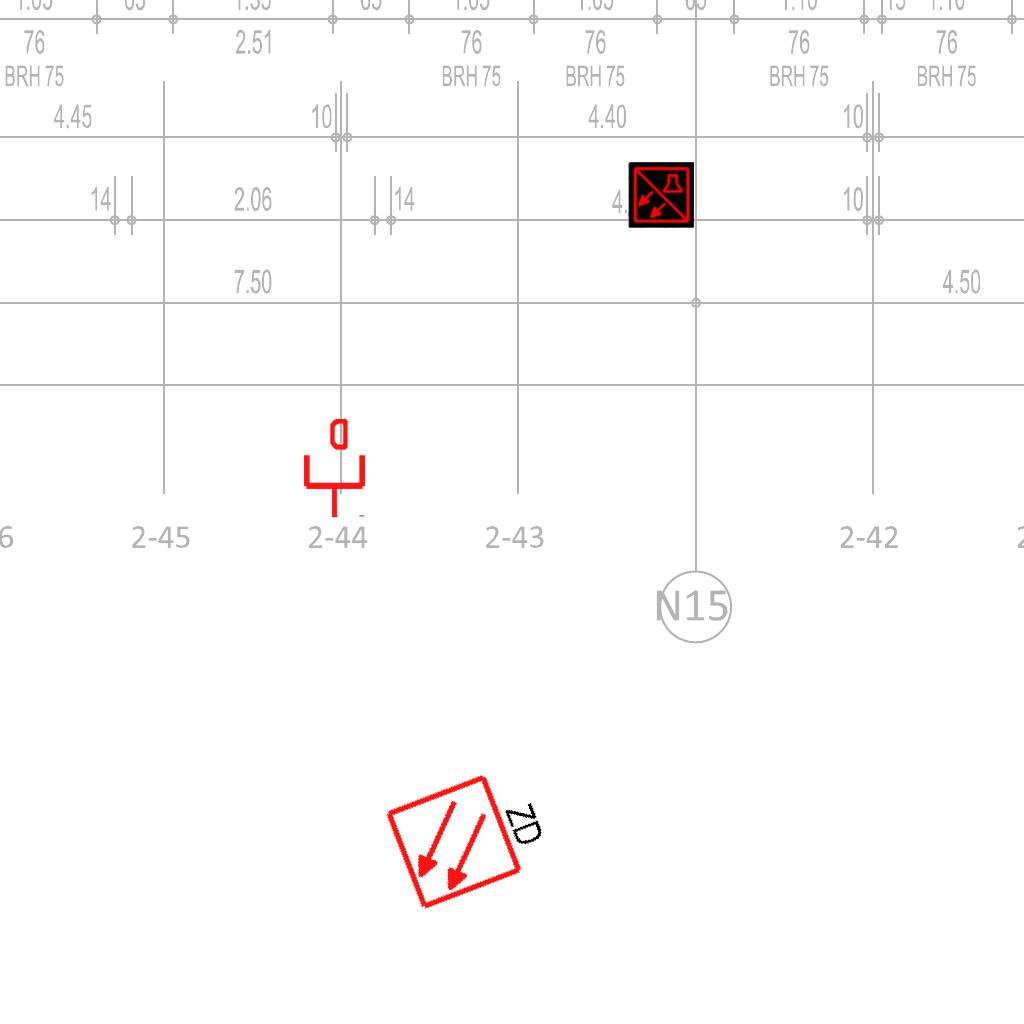Datenanschluss_einfach: (300, 419, 369, 519)
OKW_Multisensormelder_(Kombination_optischer_Rauch-Kahlenmonoxid_Waerme-Melder): (628, 162, 694, 228)
ZD_Melder_in_Zwischendecke_mit_Revisionsoeffnung_mind_40_x_40_cm: (381, 753, 561, 914)
